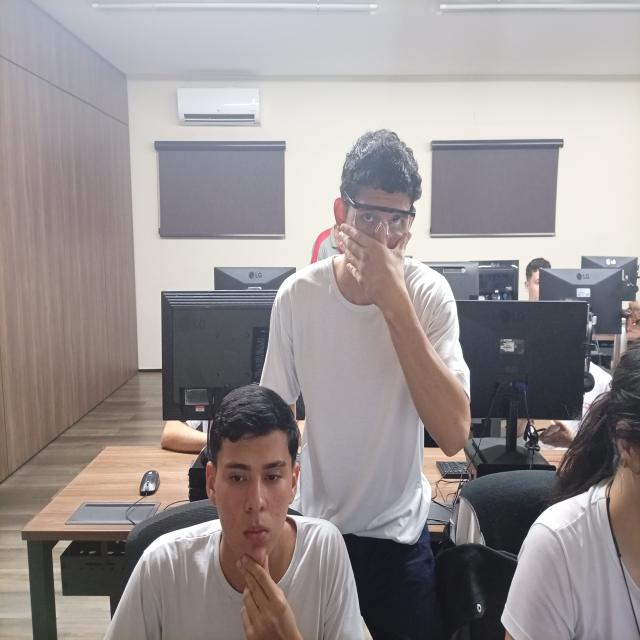oculos-epi: (343, 191, 416, 238)
sem_oculos: (210, 443, 296, 506), (610, 403, 640, 455), (524, 252, 552, 305)
